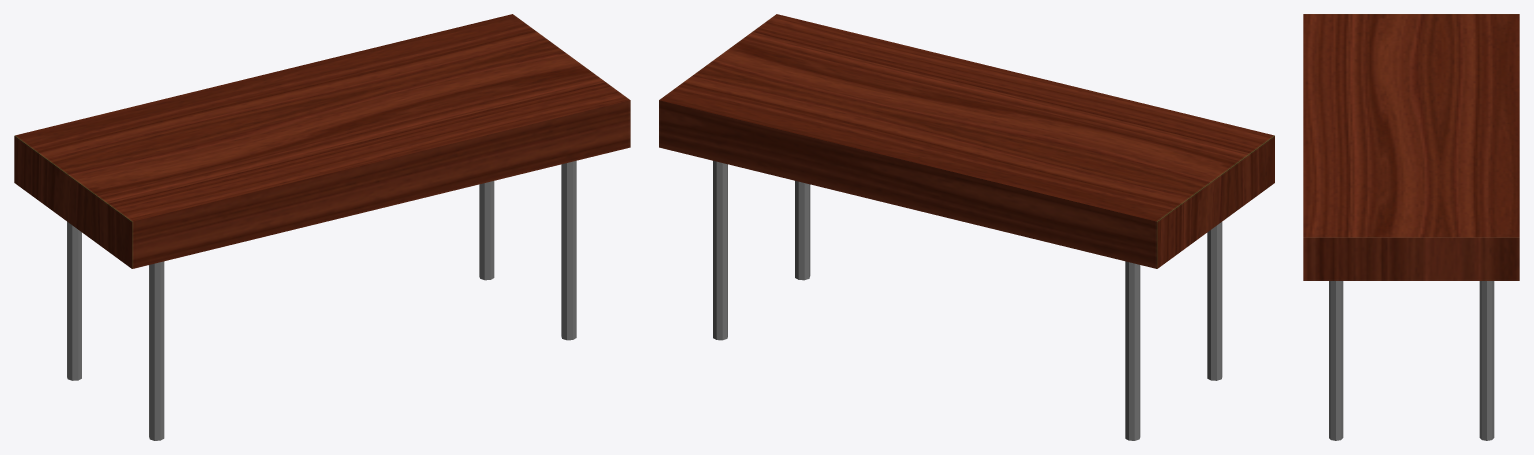
File: desk.glb
The picture shows the model from 3 angles, left to right: view 1: azimuth 30°, elevation 25°; view 2: azimuth 150°, elevation 25°; view 3: azimuth 270°, elevation 25°; orthographic projection. The views are drawn at different scales.
Parts seen in each view (by area): view 1: Tabletop1_lambert3_0.001, Tabletop_Leg_Thin4_lambert3_0.001, Tabletop_Leg_Thin1_lambert3_0.001, Tabletop_Leg_Thin2_lambert3_0.001, Tabletop_Leg_Thin3_lambert3_0.001; view 2: Tabletop1_lambert3_0.001, Tabletop_Leg_Thin2_lambert3_0.001, Tabletop_Leg_Thin3_lambert3_0.001, Tabletop_Leg_Thin1_lambert3_0.001, Tabletop_Leg_Thin4_lambert3_0.001; view 3: Tabletop1_lambert3_0.001, Tabletop_Leg_Thin3_lambert3_0.001, Tabletop_Leg_Thin4_lambert3_0.001.
Boxes of the visible parts, x1,y1,x2,y2 form: Tabletop1_lambert3_0.001: [14, 14, 630, 268]; Tabletop_Leg_Thin4_lambert3_0.001: [561, 160, 576, 340]; Tabletop_Leg_Thin1_lambert3_0.001: [149, 261, 164, 440]; Tabletop_Leg_Thin2_lambert3_0.001: [67, 221, 81, 380]; Tabletop_Leg_Thin3_lambert3_0.001: [479, 181, 494, 280]; Tabletop1_lambert3_0.001: [659, 14, 1274, 268]; Tabletop_Leg_Thin2_lambert3_0.001: [1125, 261, 1140, 440]; Tabletop_Leg_Thin3_lambert3_0.001: [713, 161, 727, 340]; Tabletop_Leg_Thin1_lambert3_0.001: [1207, 222, 1222, 380]; Tabletop_Leg_Thin4_lambert3_0.001: [795, 181, 810, 280]; Tabletop1_lambert3_0.001: [1303, 14, 1519, 280]; Tabletop_Leg_Thin3_lambert3_0.001: [1479, 281, 1494, 440]; Tabletop_Leg_Thin4_lambert3_0.001: [1329, 281, 1343, 440].
Bounding box in the file's own units: 2.2 × 1.01 × 0.9.
Materials: 1 (1 with a texture image).
